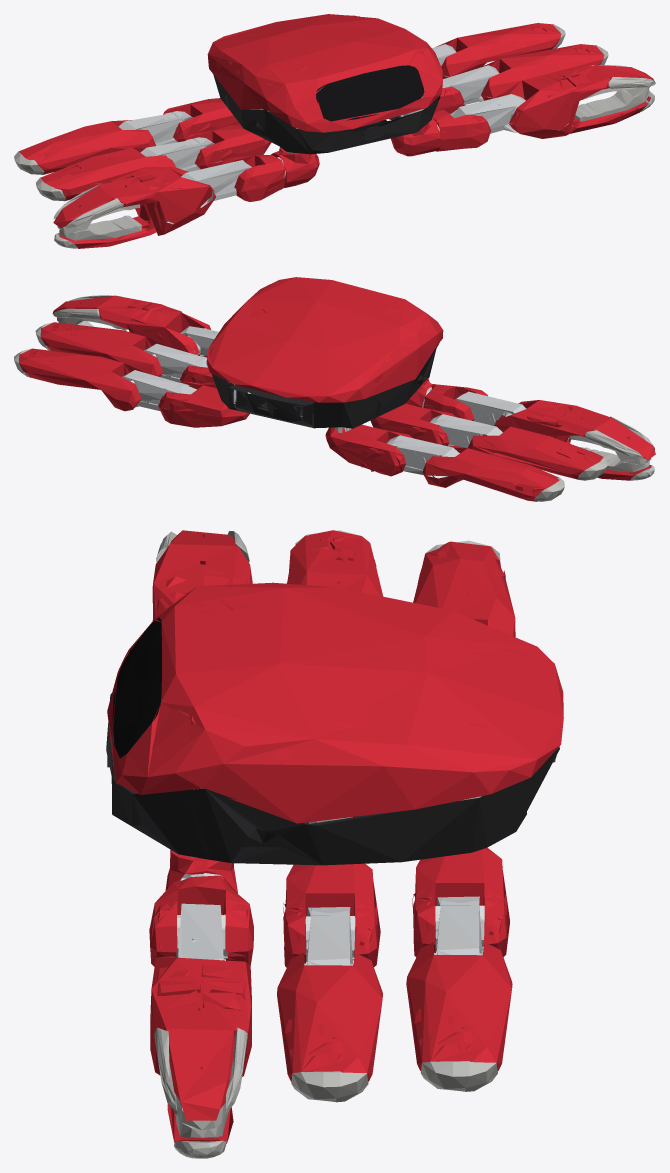
File: jumper-lod.glb
3 renders of one model, top to bottom at view 1: azimuth 30°, elevation 25°; view 2: azimuth 150°, elevation 25°; view 3: azimuth 270°, elevation 25°, orthographic. The views are drawn at different scales.
Visible parts, largest first — view 1: upper_shell_link_mesh, RF_palm_link_mesh, LF_palm_link_mesh, base_link_mesh, display_module_link_mesh, RR_calf_link_mesh, LR_calf_link_mesh, RM_calf_link_mesh, LM_calf_link_mesh, RM_hip_link_mesh, RF_upper_arm_link_mesh, LF_upper_arm_link_mesh (+18 smaller); view 2: upper_shell_link_mesh, base_link_mesh, RR_calf_link_mesh, LR_calf_link_mesh, LF_palm_link_mesh, RF_palm_link_mesh, RM_calf_link_mesh, LM_calf_link_mesh, RR_hip_link_mesh, LR_hip_link_mesh, RM_hip_link_mesh, LR_thigh_link_mesh (+15 smaller); view 3: upper_shell_link_mesh, base_link_mesh, LF_palm_link_mesh, LM_calf_link_mesh, LR_calf_link_mesh, LM_hip_link_mesh, LR_hip_link_mesh, RR_calf_link_mesh, RF_palm_link_mesh, LF_upper_arm_link_mesh, RM_calf_link_mesh, display_module_link_mesh (+8 smaller).
Part boxes in pixels (x1=…): upper_shell_link_mesh: x1=207, y1=14, x2=442, y2=132; RF_palm_link_mesh: x1=53, y1=167, x2=215, y2=235; LF_palm_link_mesh: x1=500, y1=65, x2=655, y2=138; base_link_mesh: x1=213, y1=75, x2=440, y2=154; display_module_link_mesh: x1=316, y1=65, x2=424, y2=121; RR_calf_link_mesh: x1=18, y1=120, x2=155, y2=174; LR_calf_link_mesh: x1=436, y1=23, x2=561, y2=78; RM_calf_link_mesh: x1=40, y1=146, x2=175, y2=200; LM_calf_link_mesh: x1=479, y1=44, x2=604, y2=100; RM_hip_link_mesh: x1=185, y1=109, x2=271, y2=169; RF_upper_arm_link_mesh: x1=221, y1=155, x2=285, y2=201; LF_upper_arm_link_mesh: x1=432, y1=104, x2=491, y2=151; upper_shell_link_mesh: x1=206, y1=277, x2=443, y2=402; base_link_mesh: x1=212, y1=342, x2=439, y2=428; RR_calf_link_mesh: x1=422, y1=445, x2=559, y2=501; LR_calf_link_mesh: x1=19, y1=348, x2=146, y2=411; LF_palm_link_mesh: x1=52, y1=295, x2=210, y2=355; RF_palm_link_mesh: x1=494, y1=400, x2=655, y2=459; RM_calf_link_mesh: x1=468, y1=425, x2=603, y2=479; LM_calf_link_mesh: x1=40, y1=322, x2=168, y2=376; RR_hip_link_mesh: x1=325, y1=424, x2=412, y2=476; LR_hip_link_mesh: x1=158, y1=381, x2=250, y2=427; RM_hip_link_mesh: x1=370, y1=403, x2=455, y2=446; LR_thigh_link_mesh: x1=122, y1=370, x2=196, y2=411; upper_shell_link_mesh: x1=107, y1=582, x2=563, y2=823; base_link_mesh: x1=106, y1=693, x2=559, y2=865; LF_palm_link_mesh: x1=150, y1=956, x2=251, y2=1120; LM_calf_link_mesh: x1=277, y1=952, x2=382, y2=1081; LR_calf_link_mesh: x1=406, y1=942, x2=512, y2=1071; LM_hip_link_mesh: x1=283, y1=817, x2=380, y2=967; LR_hip_link_mesh: x1=412, y1=796, x2=509, y2=956; RR_calf_link_mesh: x1=413, y1=541, x2=515, y2=637; RF_palm_link_mesh: x1=152, y1=530, x2=252, y2=620; LF_upper_arm_link_mesh: x1=149, y1=873, x2=253, y2=966; RM_calf_link_mesh: x1=287, y1=530, x2=383, y2=596; display_module_link_mesh: x1=112, y1=617, x2=161, y2=758.
Bounding box in the file's own units: 0.6171 × 0.1217 × 0.205.
